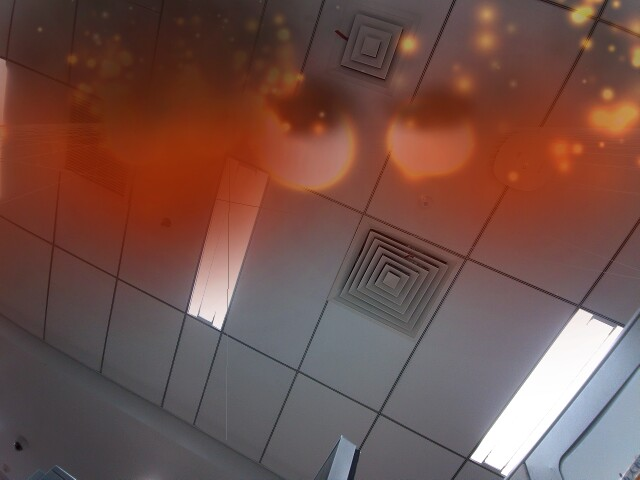fire: (259, 86, 365, 198), (384, 94, 472, 180)
